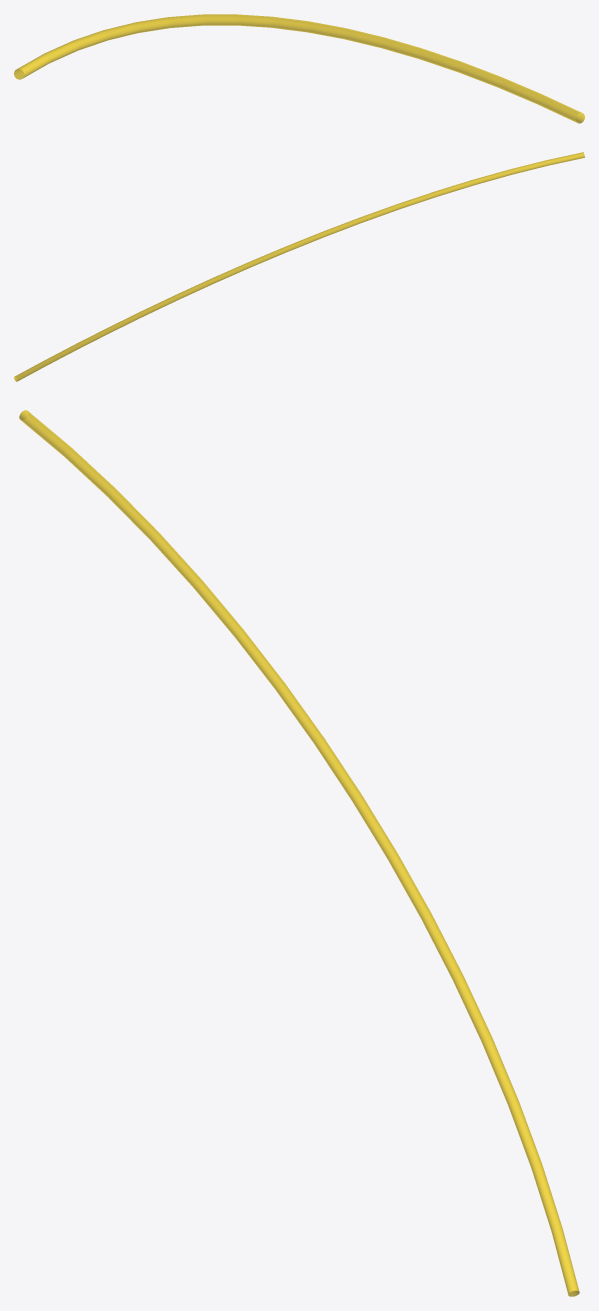
Rendered from Event_419990632_track_18.fbx.
3 views of the same model, one above another, from view 1: azimuth 30°, elevation 25°; view 2: azimuth 150°, elevation 25°; view 3: azimuth 270°, elevation 25° (orthographic). The views are drawn at different scales.
Visible parts, largest first — view 1: Model; view 2: Model; view 3: Model.
Part boxes in pixels (box(x1,y1,x2,y2)): Model: box(14, 14, 584, 123); Model: box(14, 152, 584, 381); Model: box(19, 410, 579, 1296).
Bounding box in the file's own units: 3.42 × 1.76 × 1.91.
